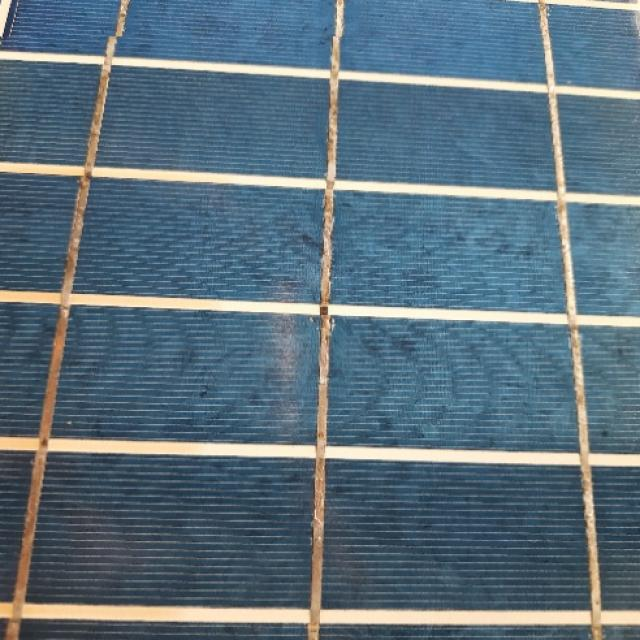Clean: (0, 36, 640, 640)
